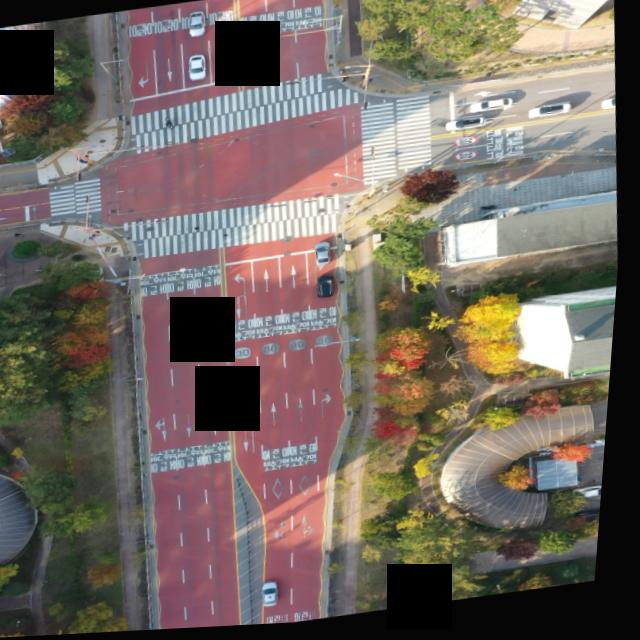car: (529, 104, 575, 121), (468, 100, 514, 116), (267, 581, 291, 610), (448, 120, 489, 135), (185, 13, 207, 39), (187, 55, 208, 81), (579, 488, 610, 505), (322, 275, 340, 299), (319, 245, 336, 266), (602, 100, 618, 115)
